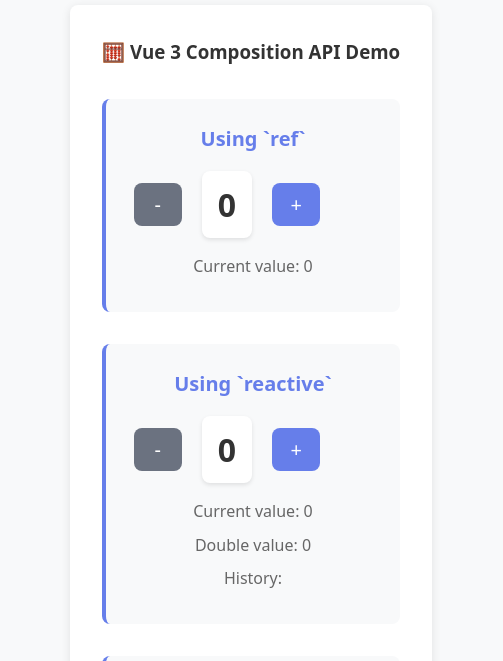
Test: Counter.vue › handles reactive counter operations
// Increment reactive counter
Click the button "+" below "Using `reactive`" at {"x": 296, "y": 449}, box [272,428,320,471]
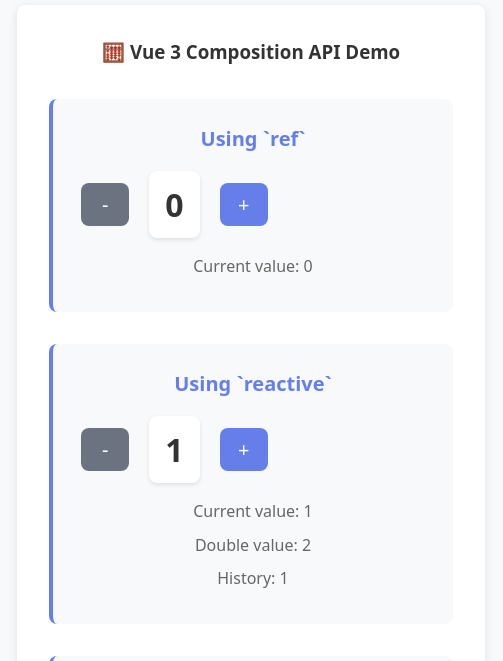
Expected: the text with class "count" reads "1", [165,428,184,471]
Expected: the text "Double value: 2" is shown, [195,534,311,556]
Expected: the text "History: 1" is shown, [217,567,289,589]
